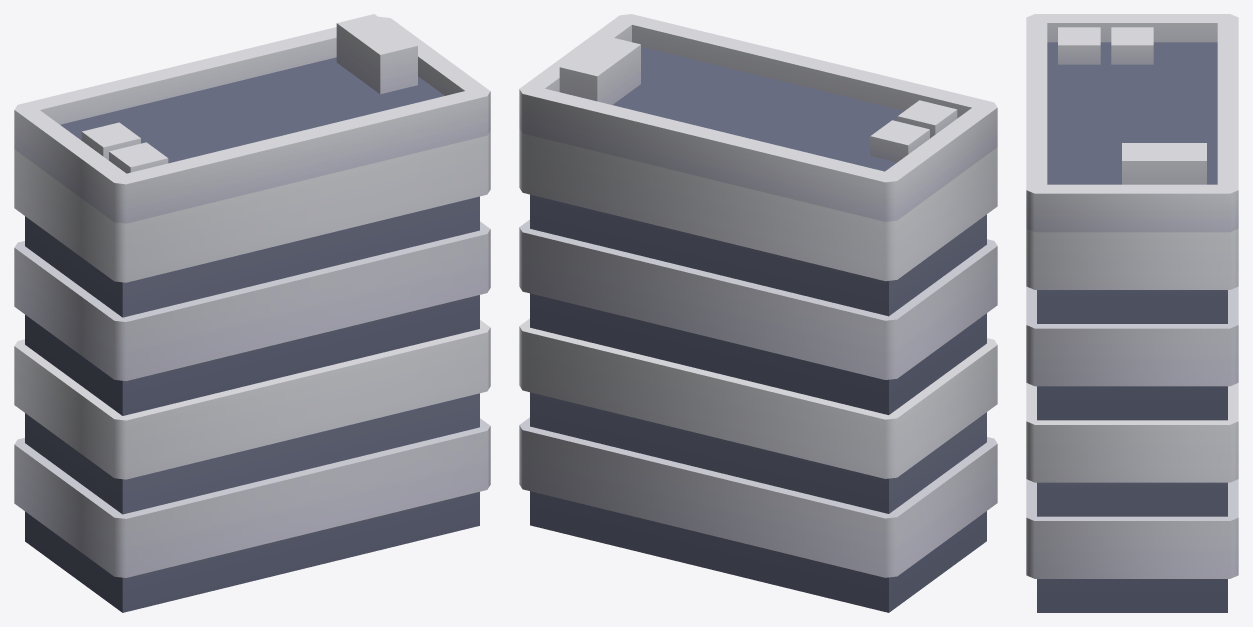
The model's file is low-detail-building-wide-b.glb.
3 renders of one model, left to right at view 1: azimuth 30°, elevation 25°; view 2: azimuth 150°, elevation 25°; view 3: azimuth 270°, elevation 25°, orthographic. The views are drawn at different scales.
Parts seen in each view (by area): view 1: low-detail-building-wide-b; view 2: low-detail-building-wide-b; view 3: low-detail-building-wide-b.
Part boxes in pixels (bbox=[...]): low-detail-building-wide-b: bbox=[14, 14, 490, 612]; low-detail-building-wide-b: bbox=[519, 14, 997, 612]; low-detail-building-wide-b: bbox=[1026, 14, 1238, 612].
Size of the model in its own units: 1 by 1.15 by 0.5.
1 material, 1 textured.
